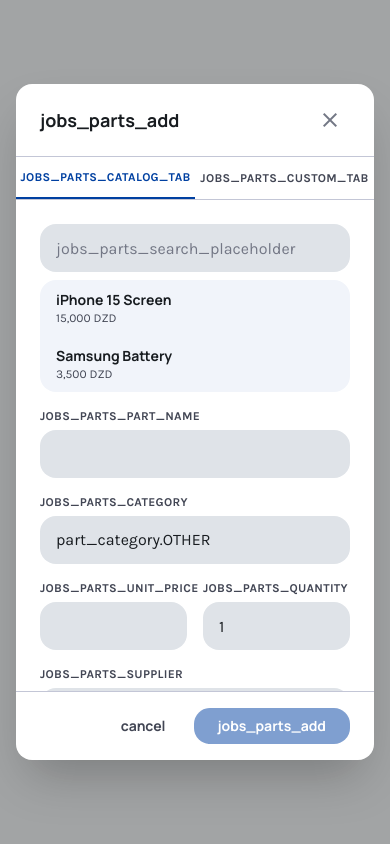
it: AddPartDialog › picks a catalog item and populates form fields
Click a catalog item
Click the text "iPhone 15 Screen". click: (114, 300)
box: left=56, top=290, right=171, bottom=309
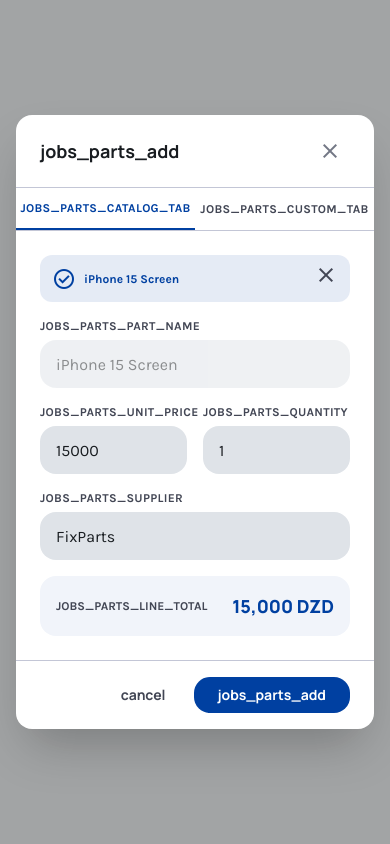
Expected: the field showing "iPhone 15 Screen" is disabled, left=40, top=340, right=350, bottom=388
Expected: the number field with id "add-part-price" holds "15000", left=40, top=426, right=187, bottom=474
Expected: the field with id "add-part-supplier" holds "FixParts", left=40, top=512, right=350, bottom=560
